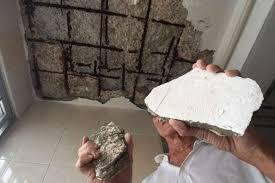exposed_rebar: (32, 2, 127, 17), (135, 0, 151, 74), (168, 30, 193, 77), (29, 39, 124, 51), (151, 37, 175, 76), (97, 13, 103, 97), (32, 55, 43, 96), (24, 0, 34, 38), (68, 72, 120, 79), (151, 18, 185, 28), (63, 49, 70, 96), (125, 68, 161, 77), (65, 44, 74, 71), (32, 68, 64, 74), (132, 75, 139, 102), (67, 11, 72, 38), (105, 16, 109, 45), (147, 77, 161, 84), (122, 63, 125, 90), (104, 50, 108, 69), (76, 62, 91, 67), (93, 60, 97, 75), (107, 68, 120, 72), (128, 49, 138, 53), (106, 0, 108, 9)
spalling: (18, 0, 215, 110)
